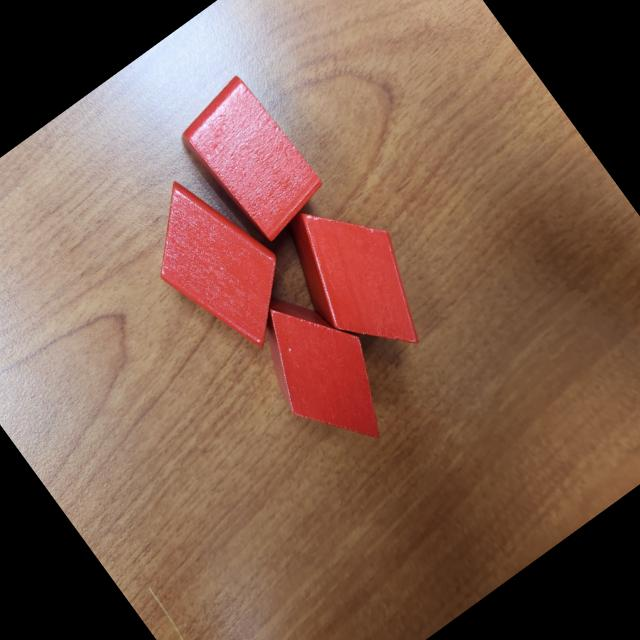red: (120, 158, 313, 368), (262, 175, 450, 378), (232, 271, 413, 468), (168, 71, 336, 254)
